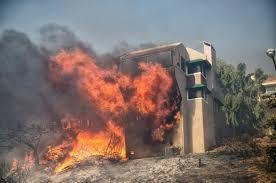fire: (43, 42, 186, 164)
